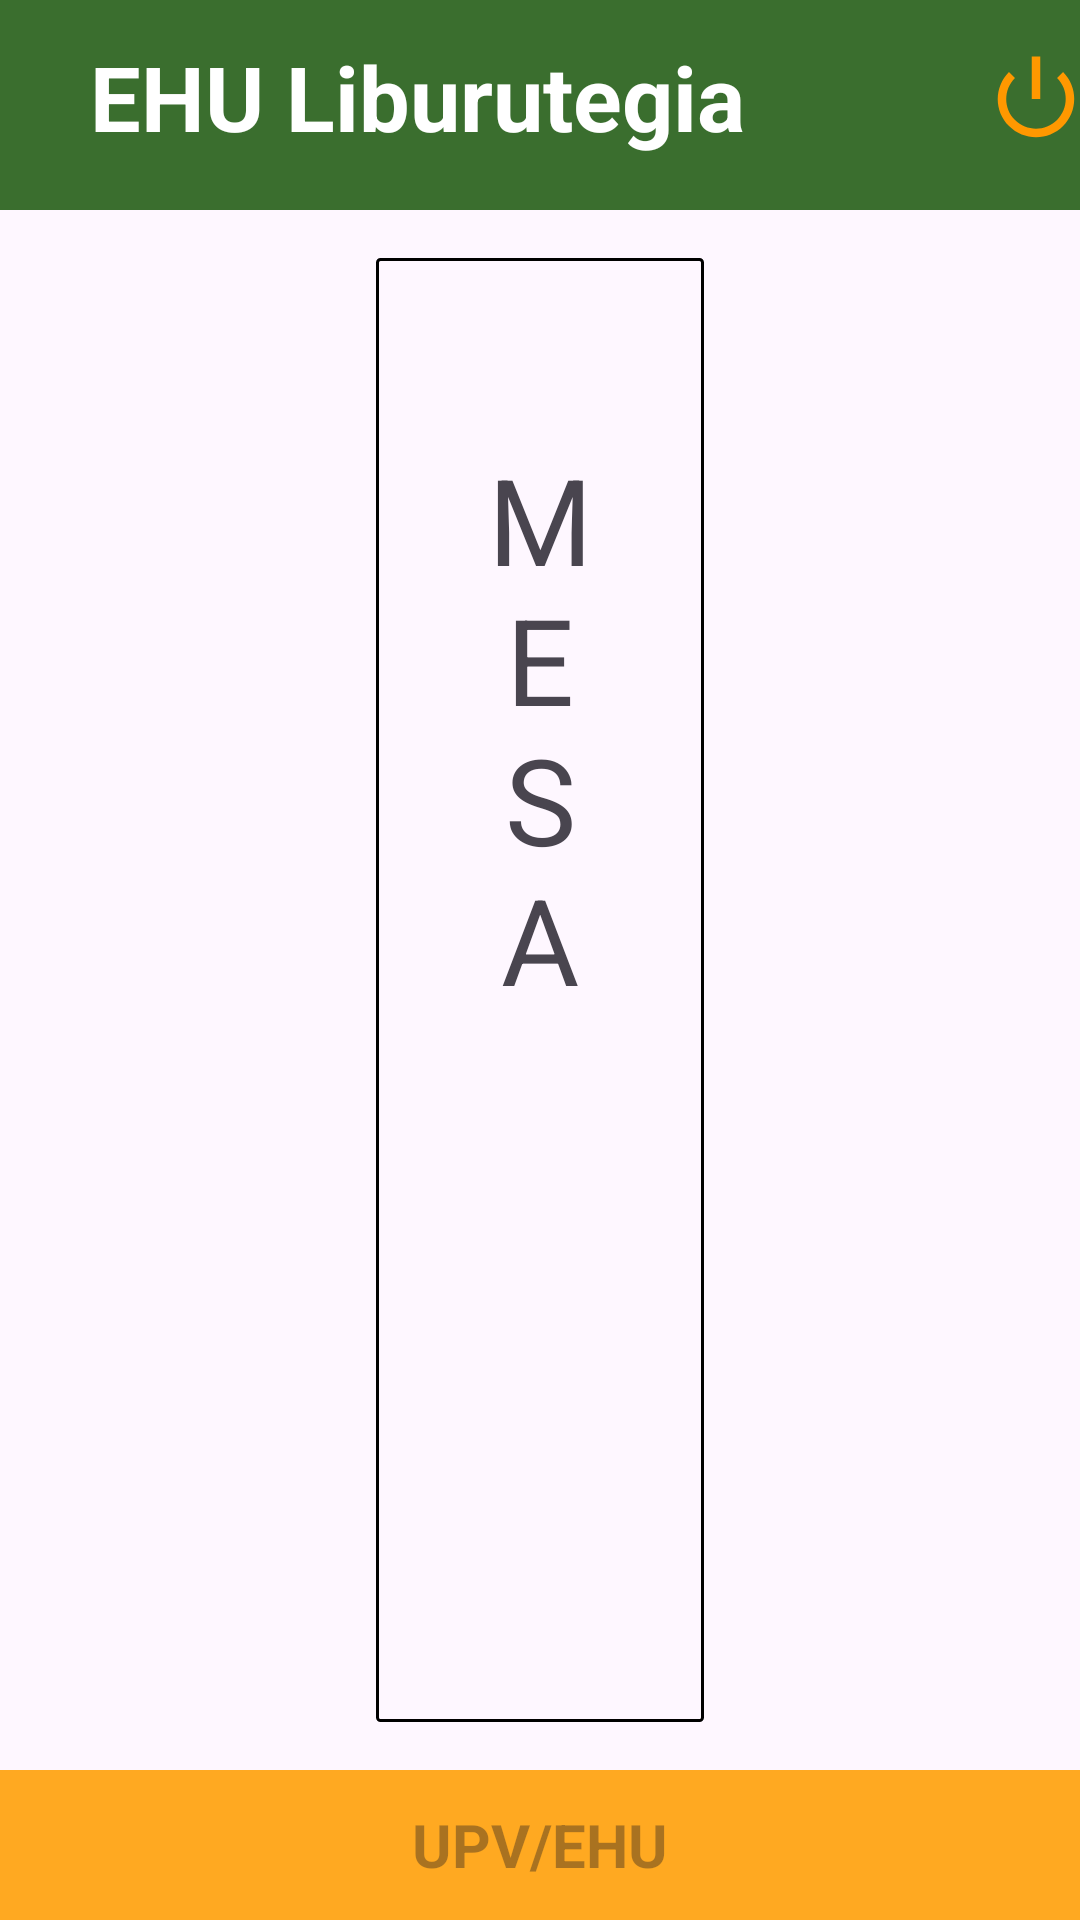

Named icons in this screenshot (1080 × 1920) and their bounding boxes, (x1, y1, x2, y2):
lock power off: (997, 56, 1075, 138)
